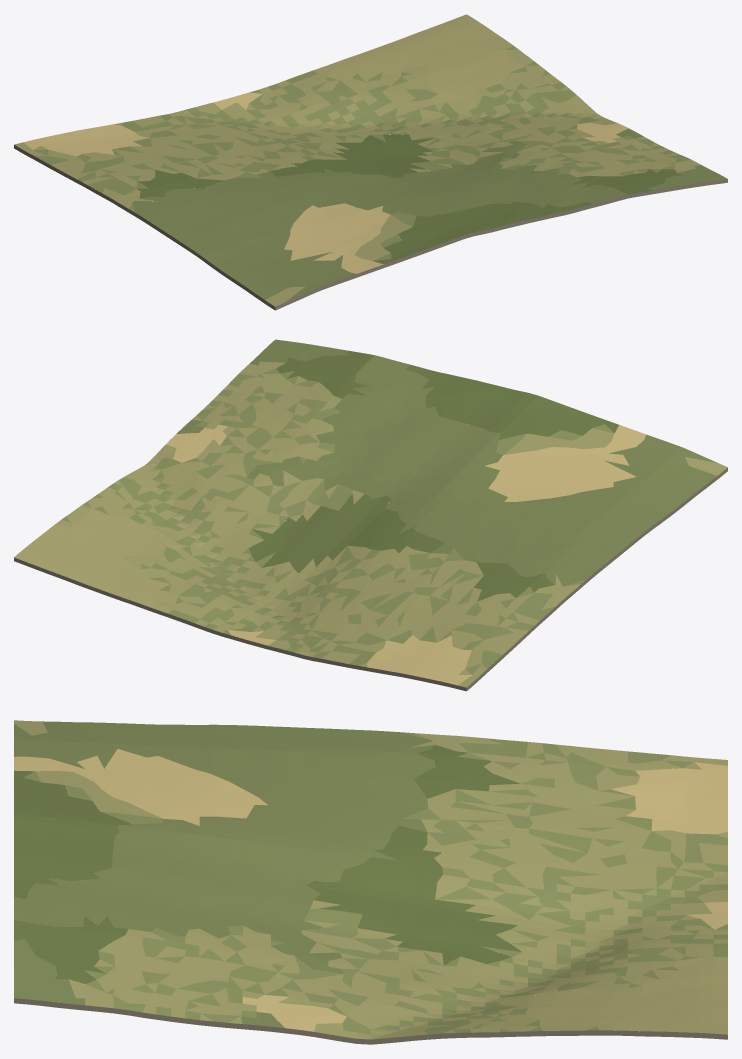
Rendered from parca_+1_-5-uzak.glb.
The picture shows the model from 3 angles, top to bottom: view 1: azimuth 30°, elevation 25°; view 2: azimuth 150°, elevation 25°; view 3: azimuth 270°, elevation 25°; orthographic projection. The views are drawn at different scales.
Visible parts, largest first — view 1: parca_+1_-5_arazi_uzak; view 2: parca_+1_-5_arazi_uzak; view 3: parca_+1_-5_arazi_uzak.
Boxes of the visible parts, x1,y1,x2,y2 form: parca_+1_-5_arazi_uzak: (14,14,727,310); parca_+1_-5_arazi_uzak: (14,339,727,691); parca_+1_-5_arazi_uzak: (14,720,727,1044).
Size of the model in its own units: 1000 by 139 by 1000.
